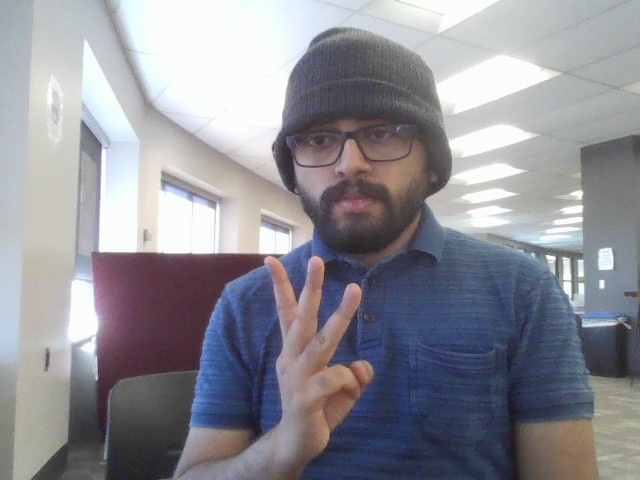start: (248, 250, 366, 464)
